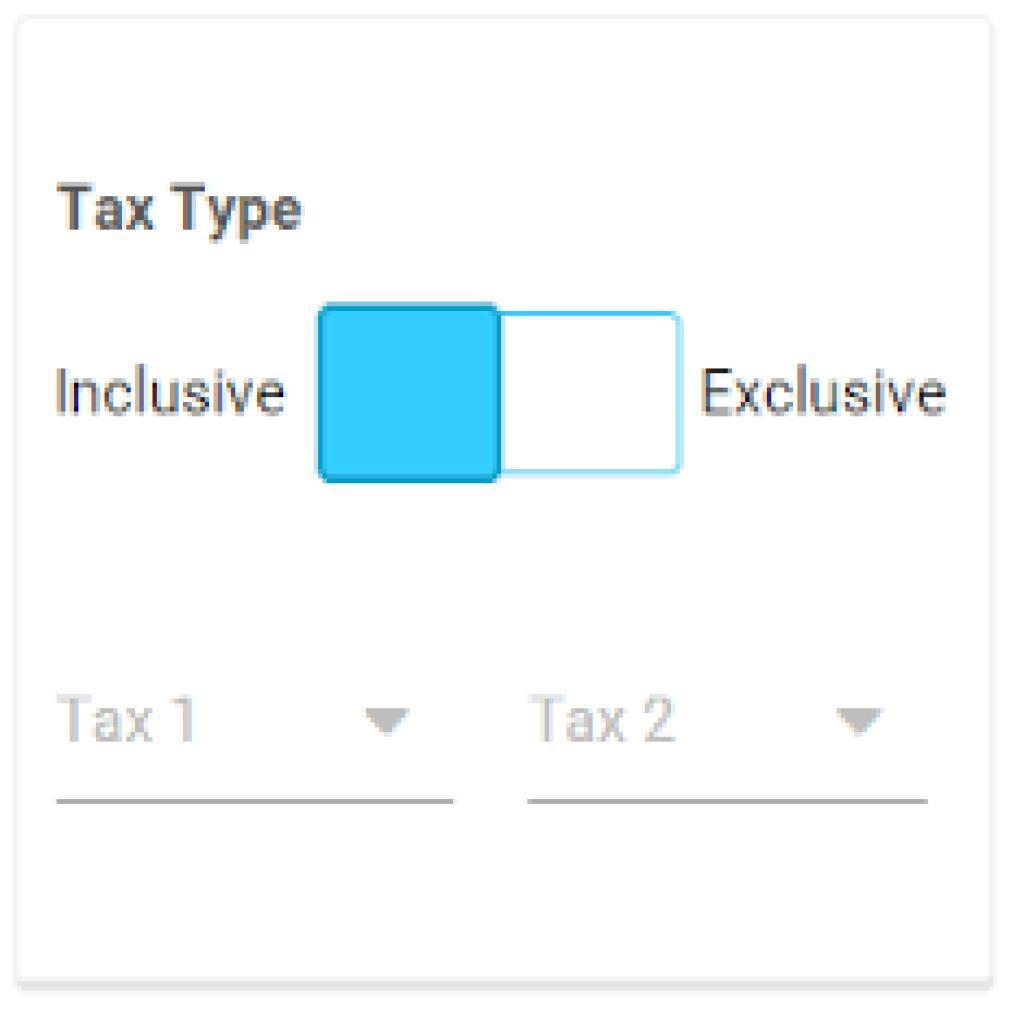dropdown: (31, 659, 438, 806), (529, 660, 923, 802)
